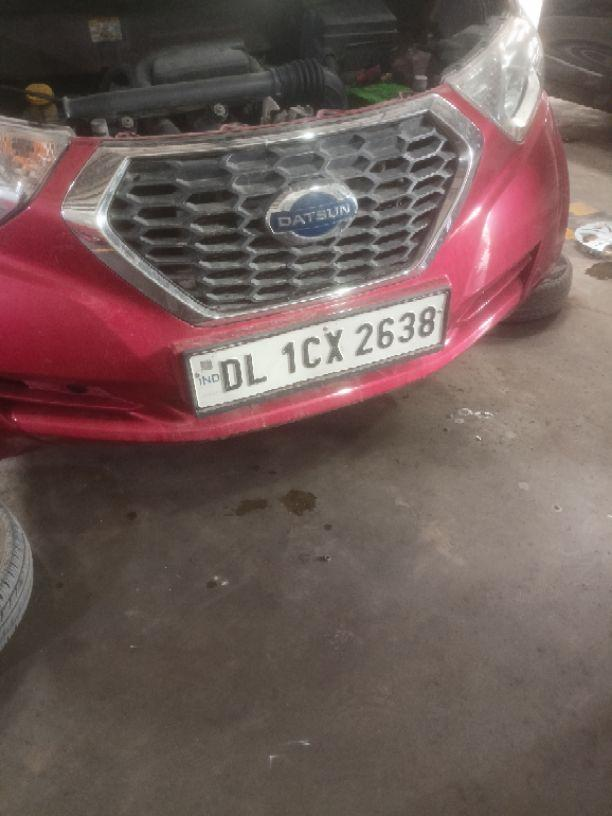license_plate: (181, 287, 450, 418)
